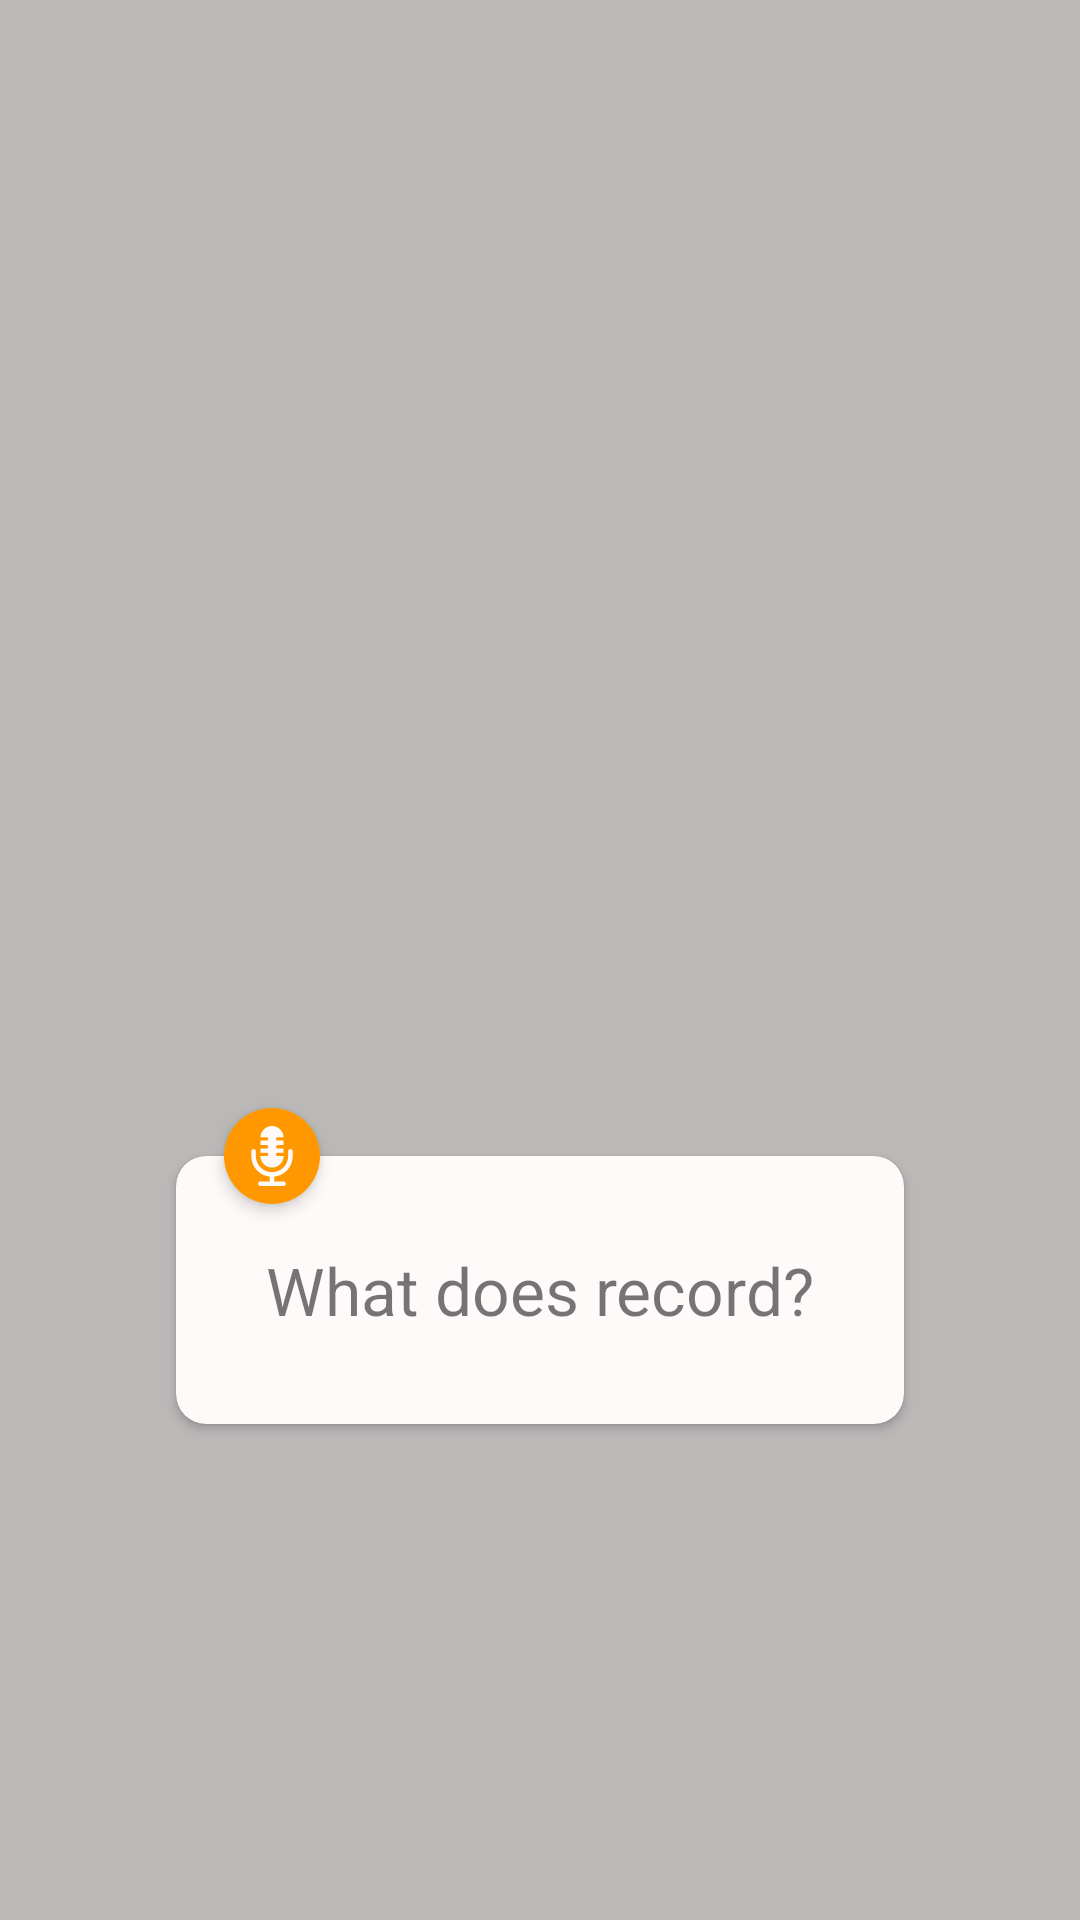

Icons on this 1080×1920 Android screen, each with its box as (x1, y1, x2, y2):
mic: (251, 1126, 293, 1186)
